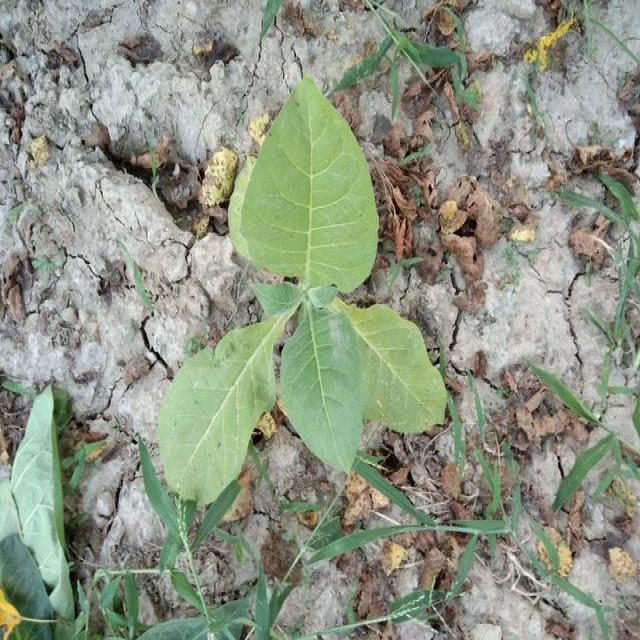crop: (174, 99, 444, 496)
